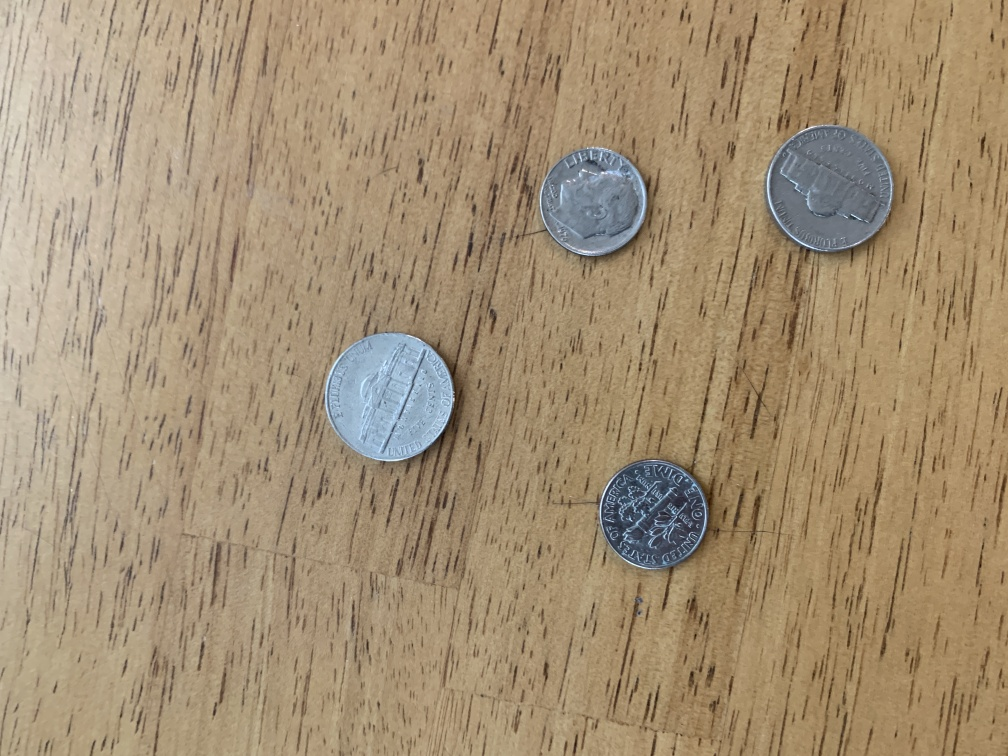dime: (595, 454, 713, 577), (536, 142, 651, 264)
nickel: (318, 328, 461, 467), (761, 121, 899, 257)
